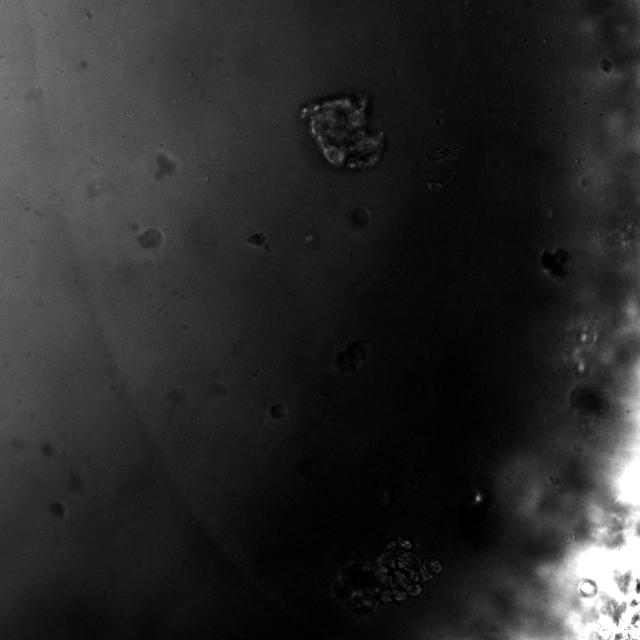organoid: (301, 94, 384, 170), (343, 207, 371, 232), (138, 228, 162, 247), (270, 404, 287, 419), (247, 232, 265, 245)
